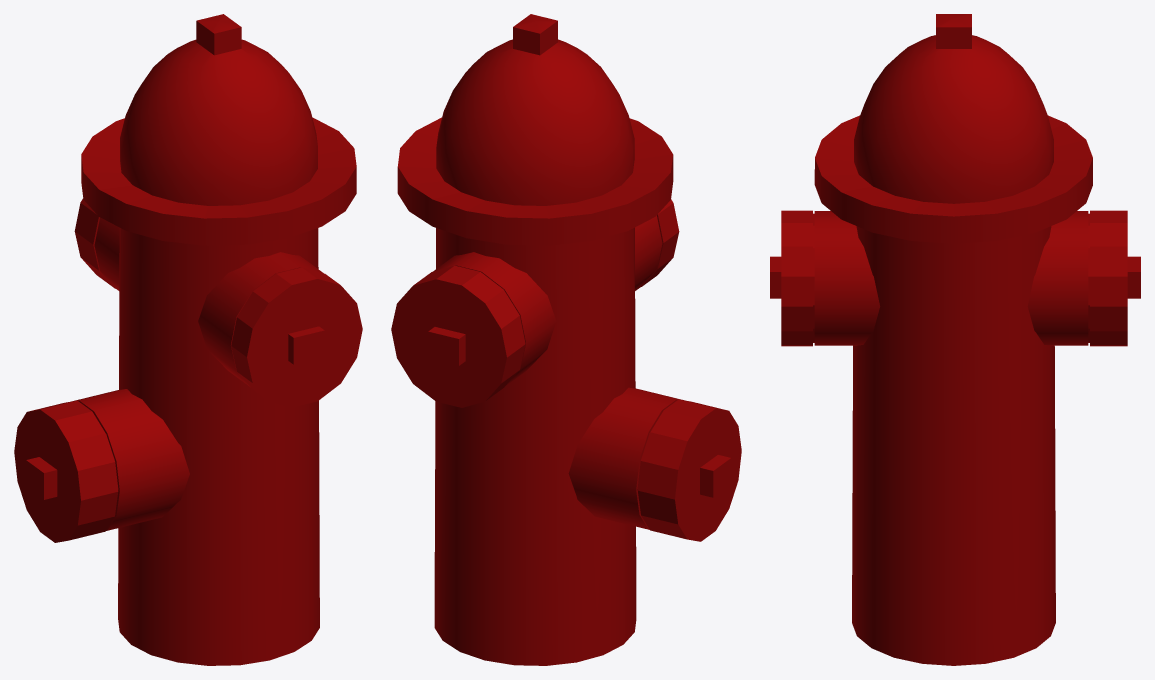
File: Fire_Hydrant.fbx
The picture shows the model from 3 angles, left to right: view 1: azimuth 30°, elevation 25°; view 2: azimuth 150°, elevation 25°; view 3: azimuth 270°, elevation 25°; orthographic projection.
Parts seen in each view (by area): view 1: pCylinder2; view 2: pCylinder2; view 3: pCylinder2.
Boxes of the visible parts, x1=… form: pCylinder2: x1=14, y1=14, x2=362, y2=665; pCylinder2: x1=391, y1=14, x2=741, y2=665; pCylinder2: x1=770, y1=14, x2=1140, y2=665.
Size of the model in its own units: 3.47 by 6.54 by 3.64.
